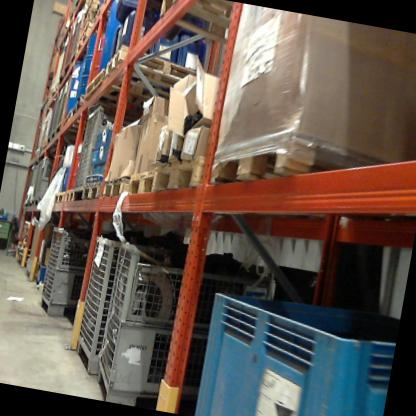pallet: (211, 118, 404, 208), (100, 41, 216, 107), (80, 66, 185, 127), (153, 0, 253, 56), (154, 144, 222, 212), (125, 162, 160, 207), (99, 171, 133, 207), (57, 102, 80, 135), (83, 179, 103, 209), (75, 29, 93, 57), (51, 187, 66, 208), (62, 184, 74, 207)
stillage: (85, 241, 282, 416), (69, 228, 130, 379), (36, 221, 98, 326), (73, 103, 100, 200), (20, 157, 45, 217), (31, 154, 56, 212), (50, 75, 70, 143), (65, 10, 81, 74), (58, 24, 73, 76), (48, 87, 61, 140), (68, 0, 92, 17)
